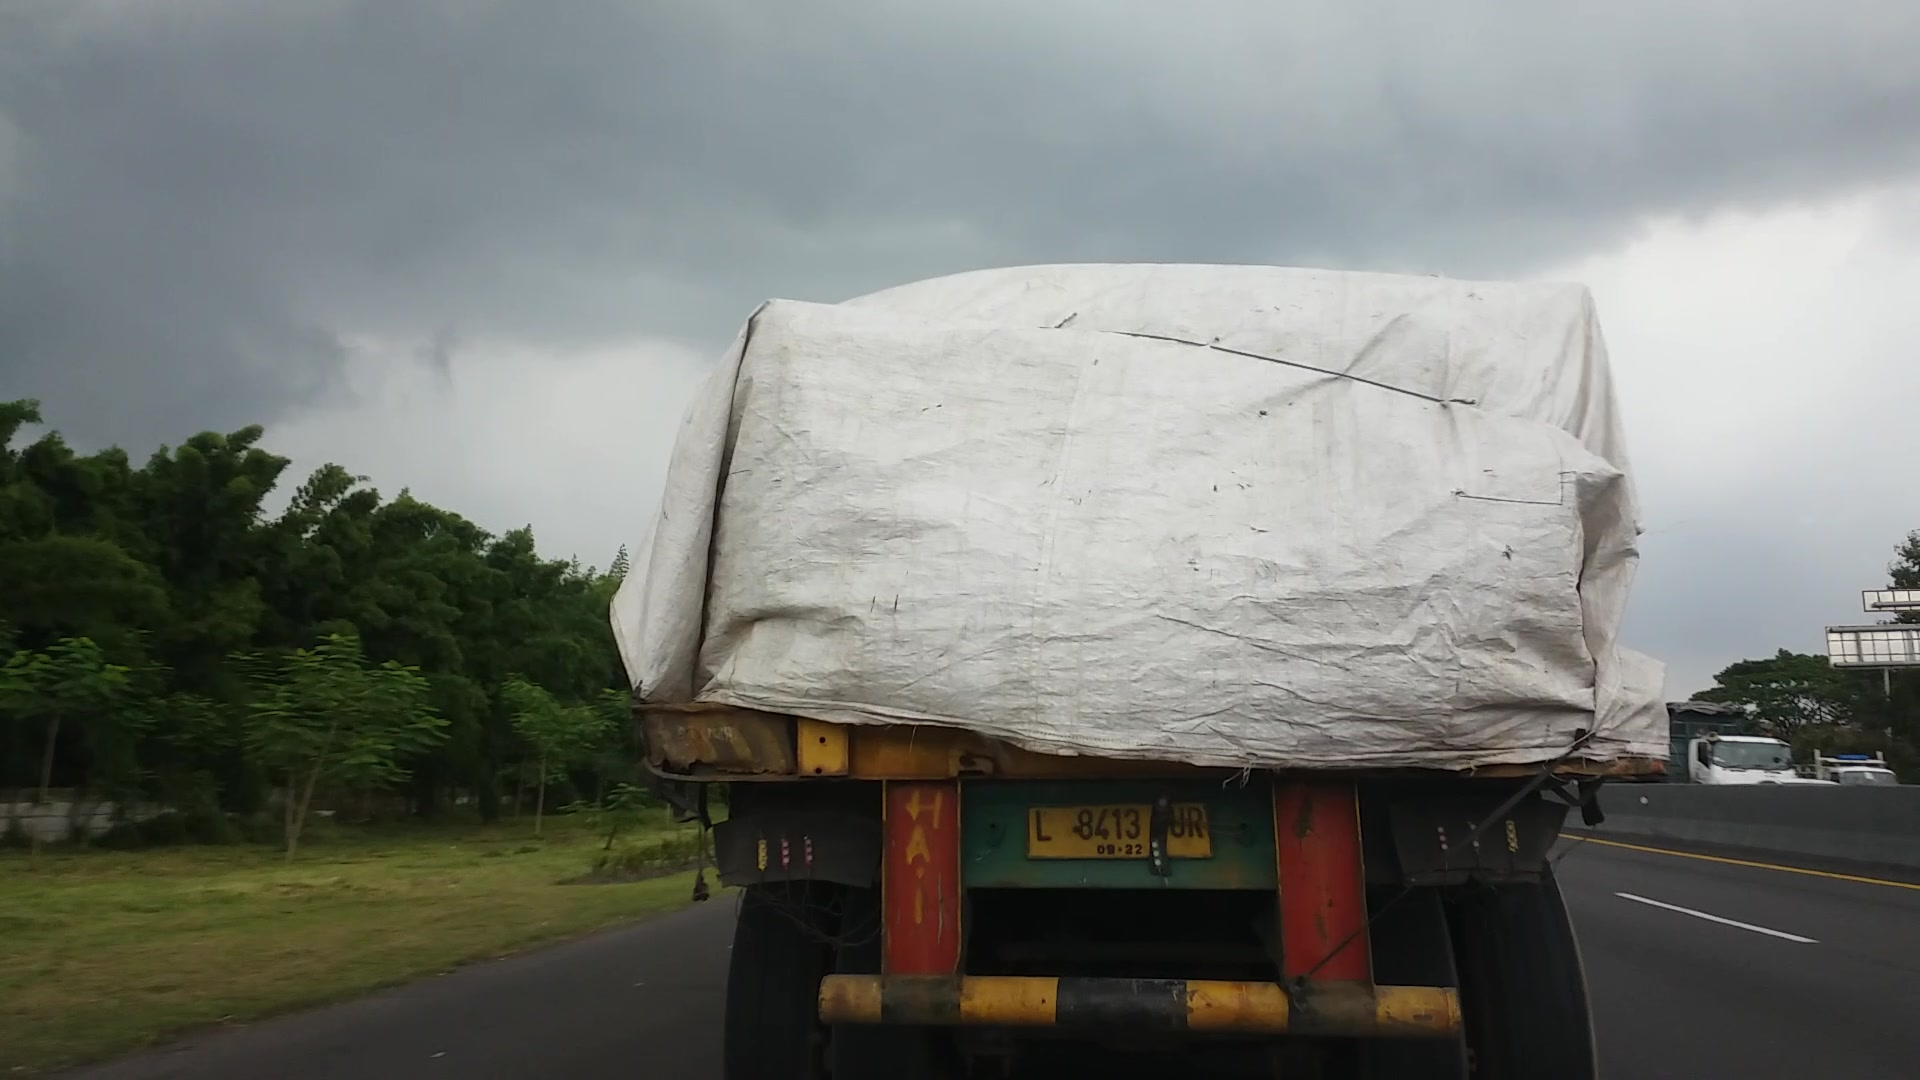plate_positive: (1026, 802, 1211, 858)
